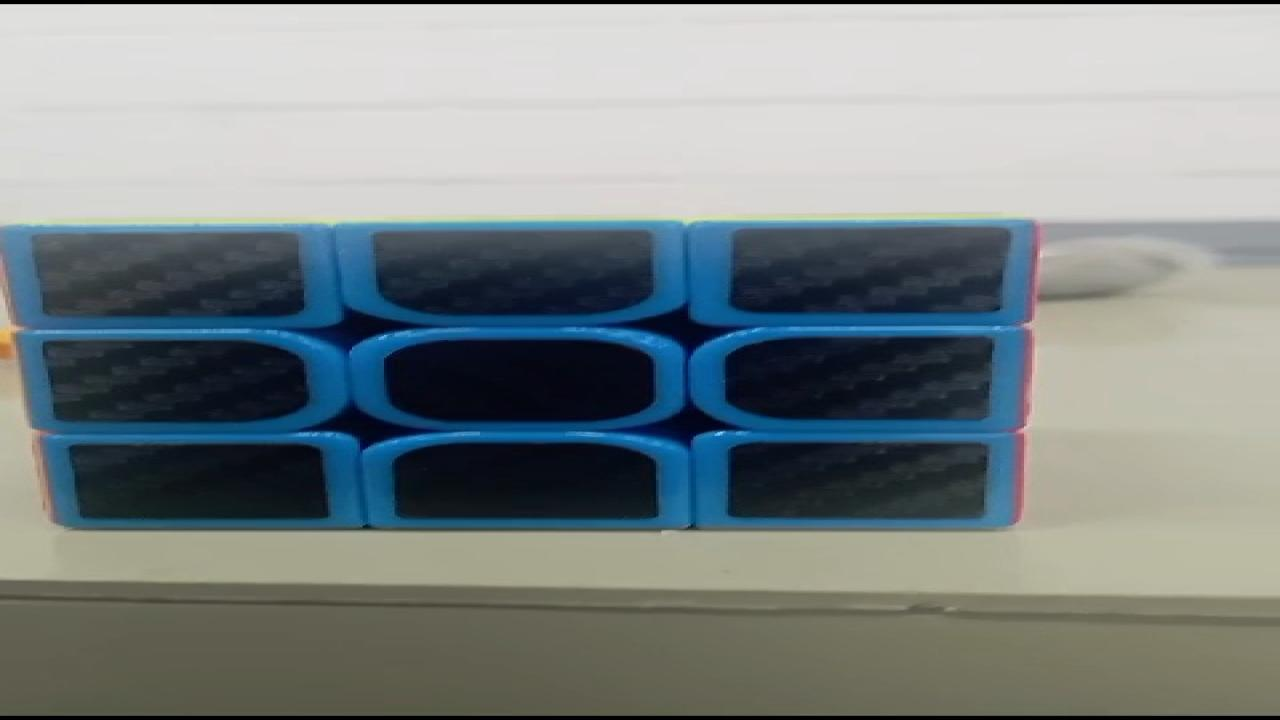Cube: (3, 213, 1045, 532)
